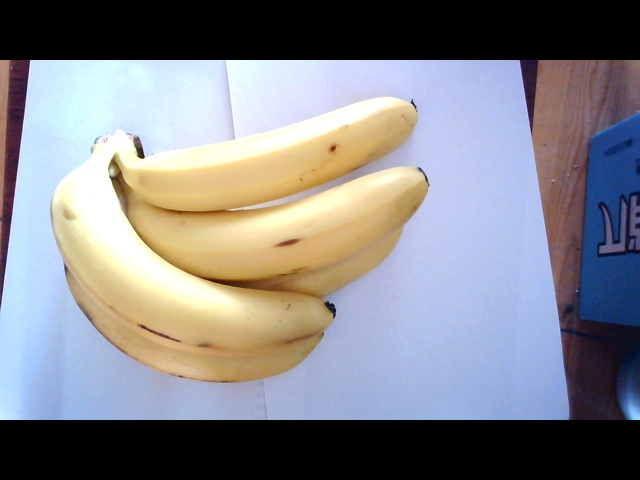banana: (40, 103, 445, 371)
